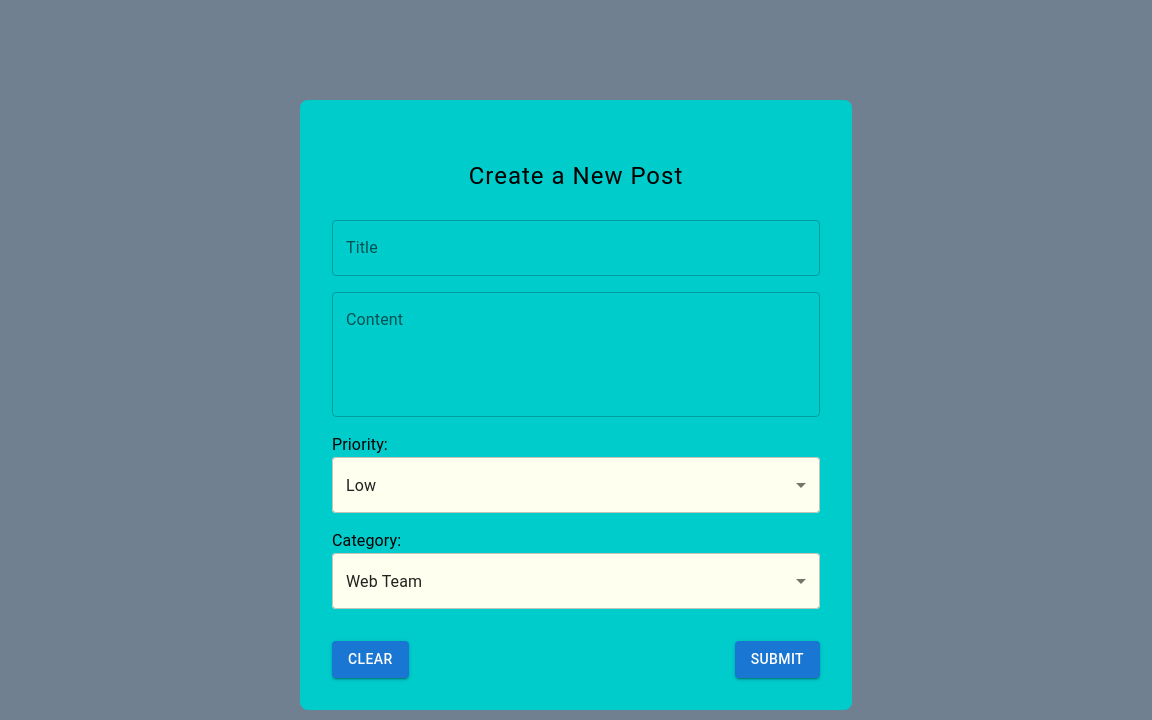
Scenario: PostCreation Component Tests › shows snackbar when fields are empty
Click the button "Submit" at (777, 659), box [735, 641, 820, 678]
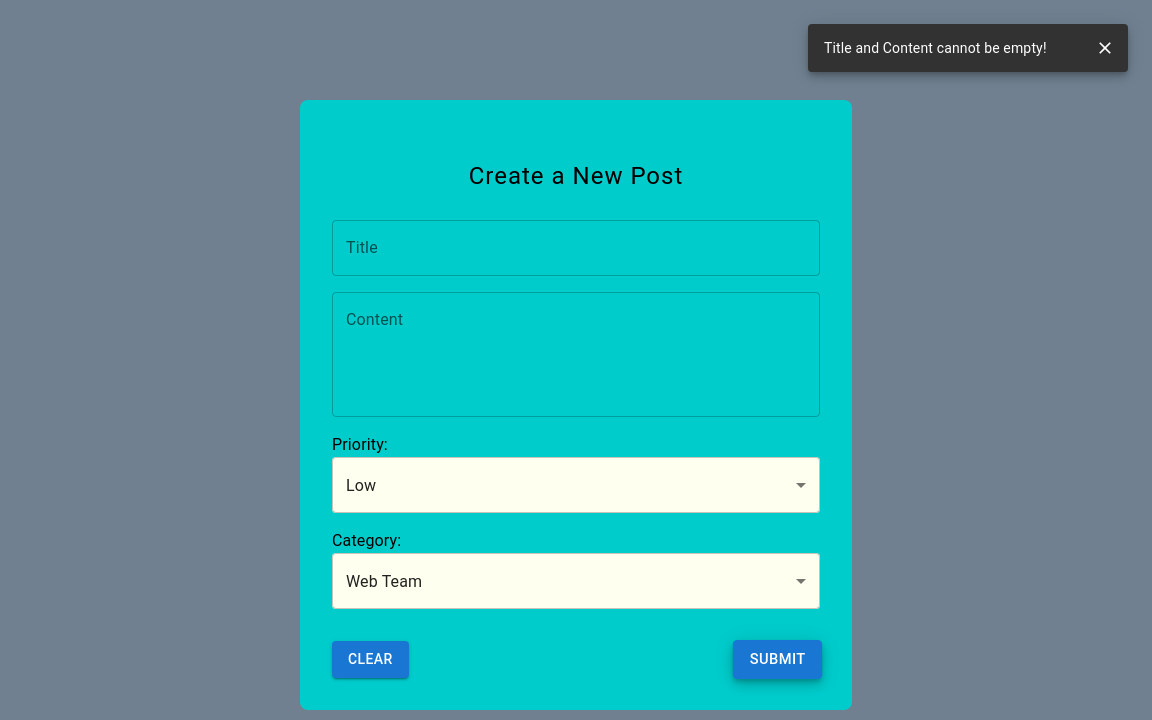
Expected: the text "Title and Content cannot be empty!" is shown, [824, 40, 1047, 56]
